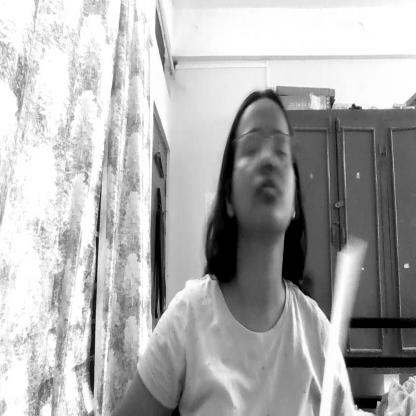Normal: (214, 80, 302, 242)
